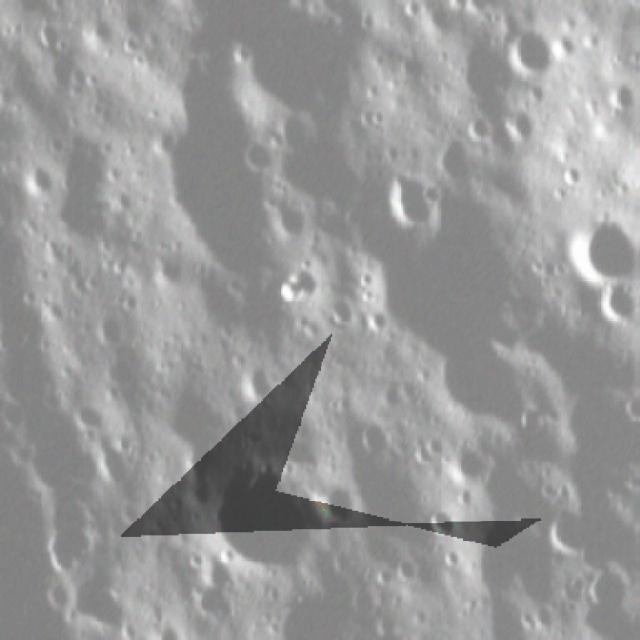crater: (358, 180, 532, 358), (223, 0, 354, 157), (198, 450, 334, 568), (33, 118, 135, 253), (423, 343, 546, 439), (267, 564, 378, 640), (453, 20, 530, 129), (557, 209, 640, 297), (379, 162, 444, 246), (190, 560, 244, 638), (509, 20, 573, 85), (224, 348, 279, 419), (587, 280, 640, 343), (255, 188, 314, 244), (541, 501, 588, 567), (578, 560, 632, 611), (432, 131, 476, 191), (14, 155, 60, 210), (30, 15, 76, 63), (244, 126, 281, 180), (601, 73, 640, 117), (317, 477, 352, 526), (72, 397, 110, 441), (550, 27, 582, 71), (427, 506, 462, 540), (621, 382, 640, 433), (356, 626, 416, 640), (150, 623, 184, 640), (409, 635, 463, 640), (637, 127, 640, 188)
